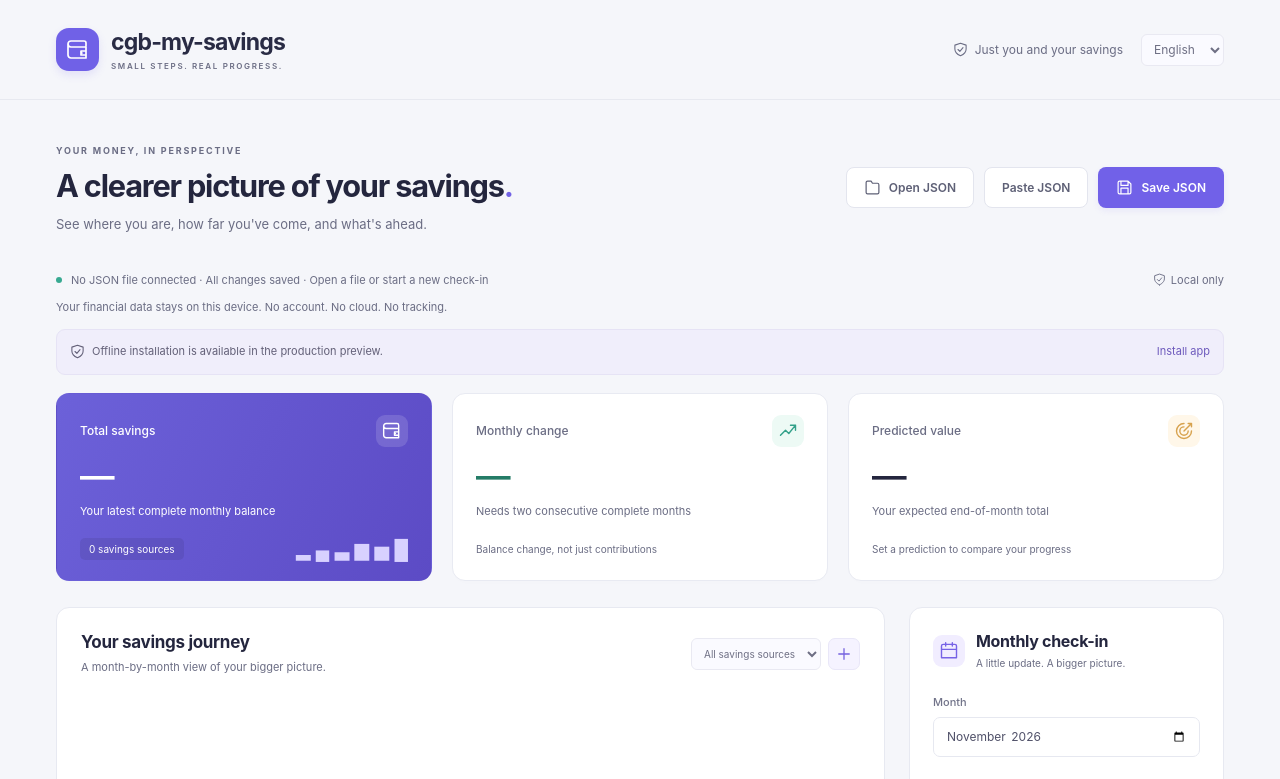
savings dashboard › reports a write failure and leaves the changes unsaved
Click the button "Open JSON" at x=910, y=187, box [846,167,974,208]
(page scrolled)
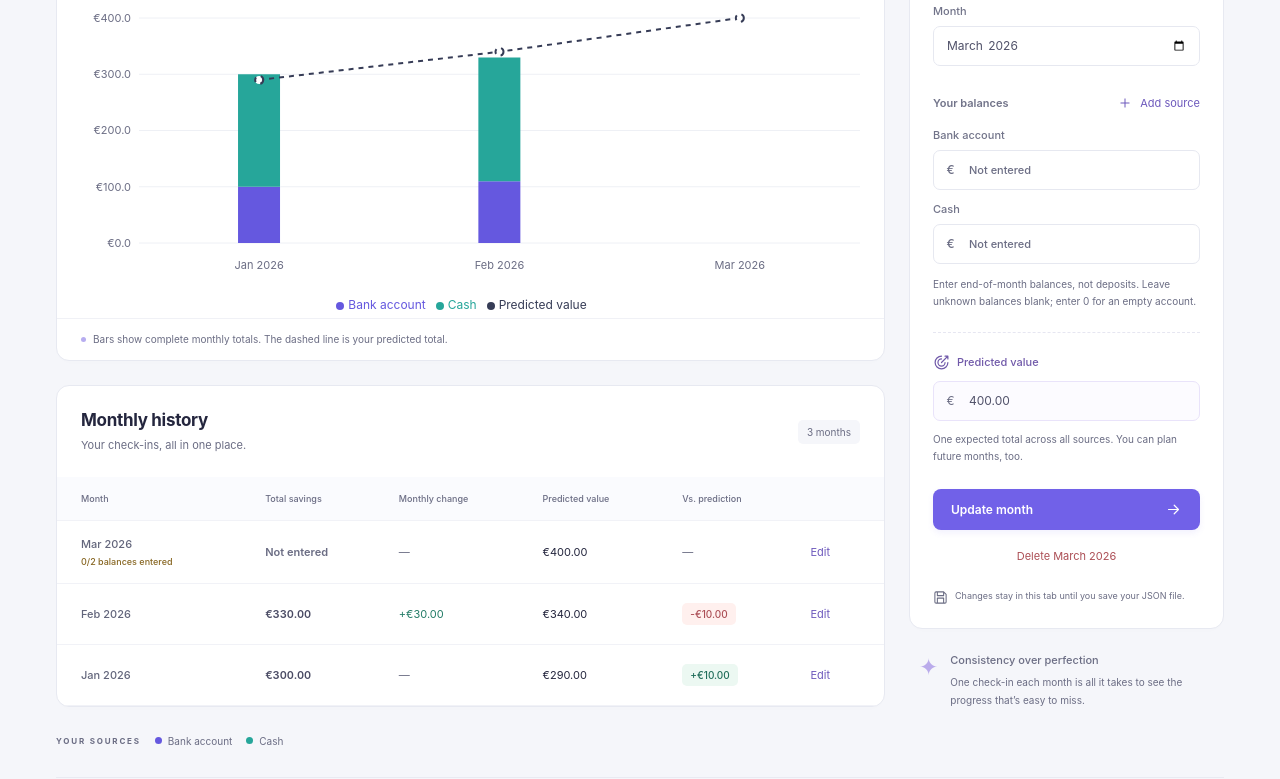
Replace the text in the field labelled "Predicted value" with "450" at x=1066, y=401, box [933,381,1200,421]
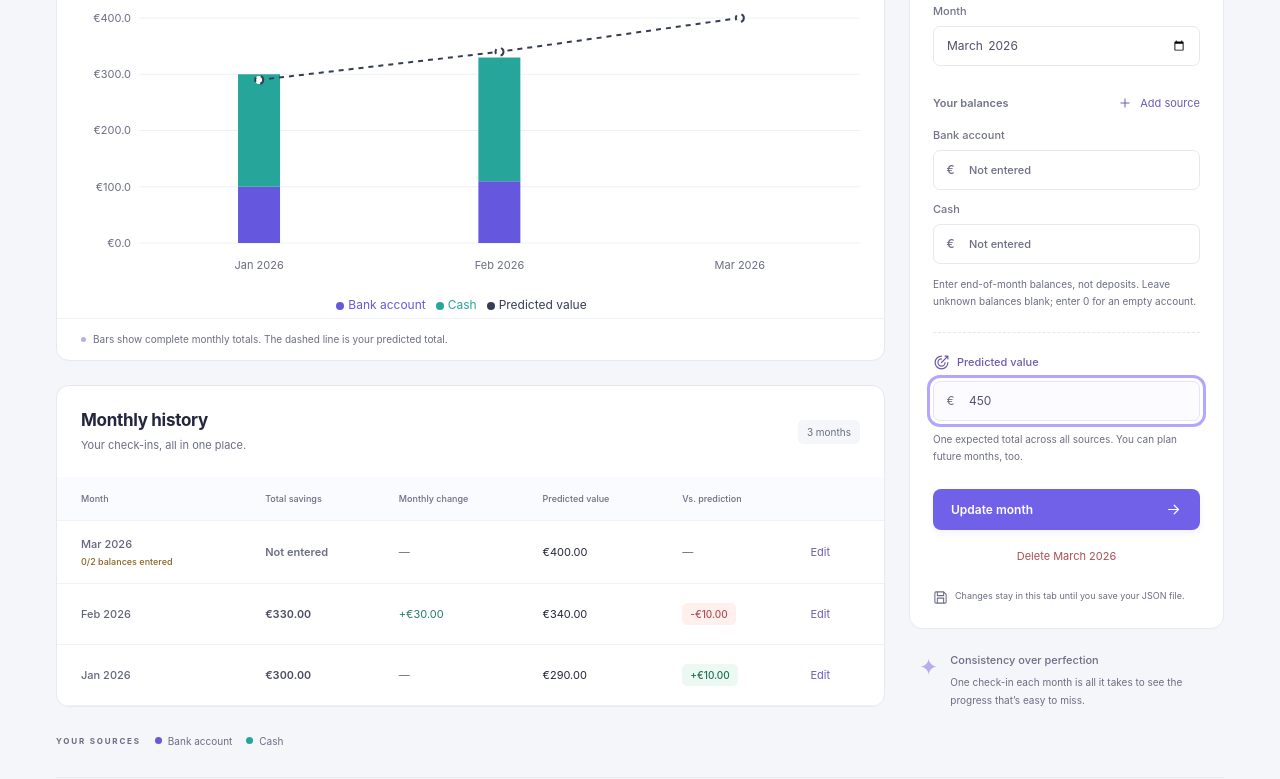
Click the button "Update month" at x=992, y=509, box [933,489,1200,530]
(page scrolled)
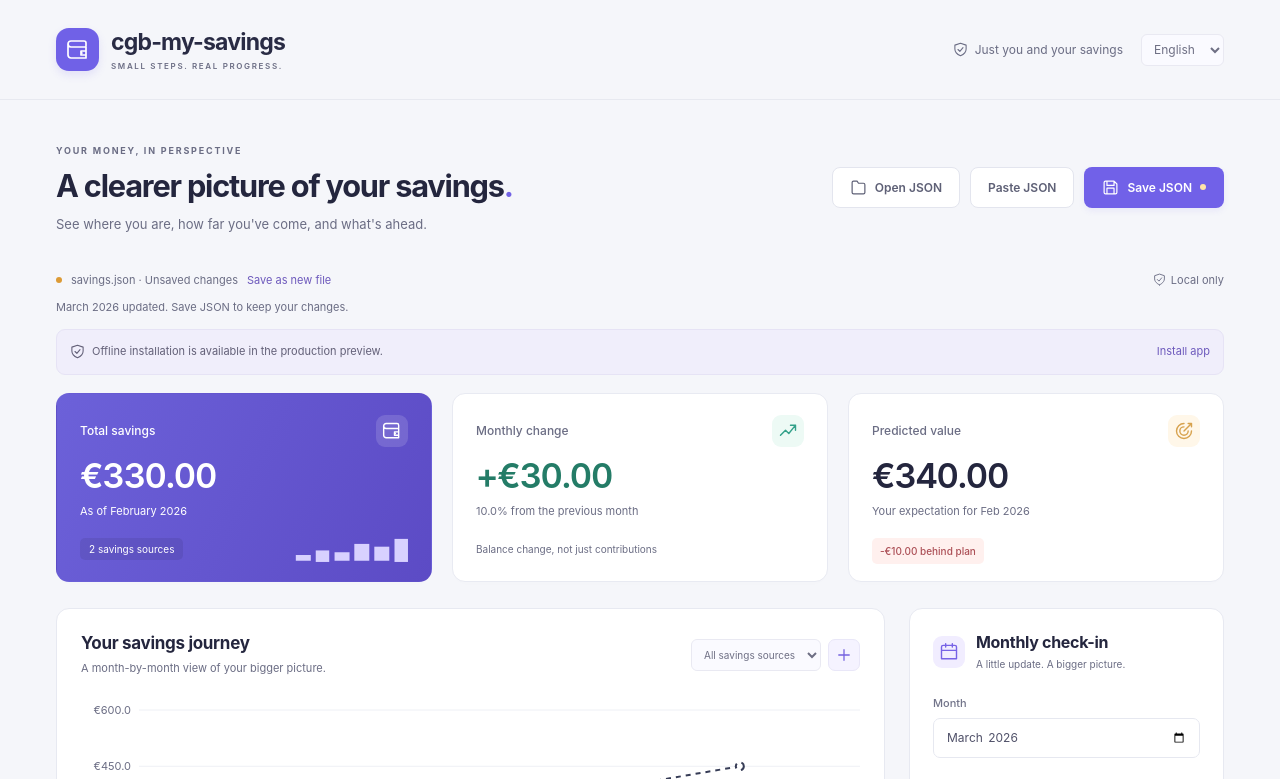
Click the button "Save JSON" at x=1154, y=187, box [1084,167,1224,208]
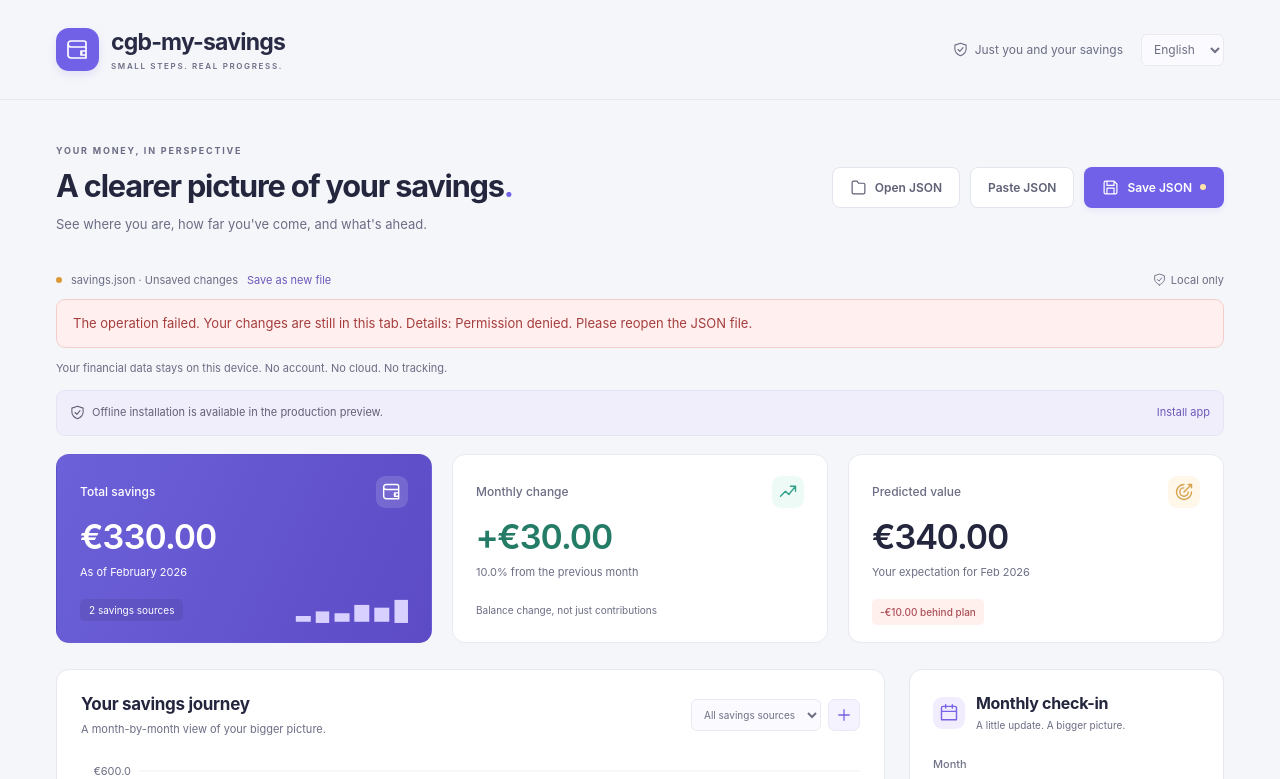
Now the text "· Unsaved changes" is shown, box [136,273,238,287]
Now the 1st message shows "Permission denied", box [73,315,752,331]
